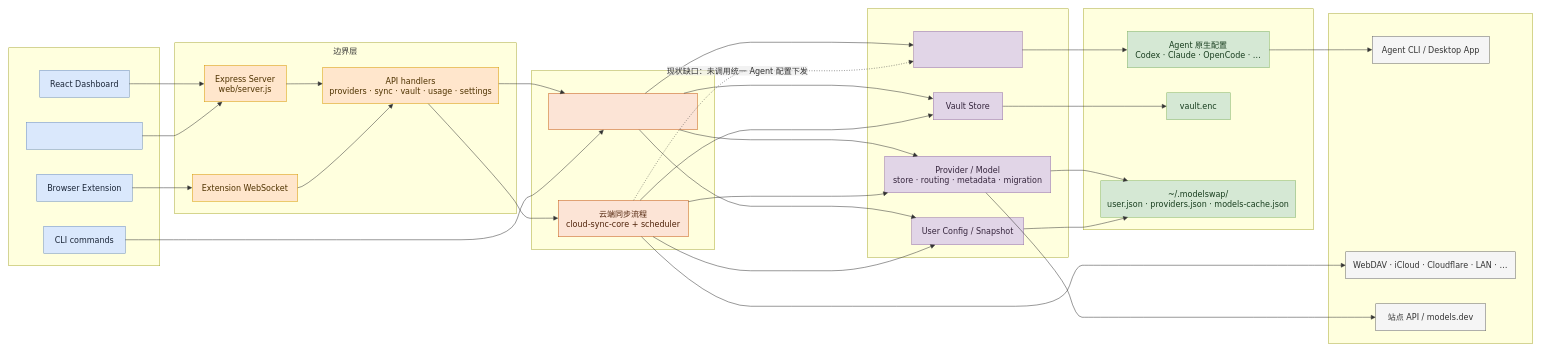
Some shapes in this 1542 by 352 pixel diagram are drawn without their labels. Each missing label, with the box of its shape:
Agent adapters registry + 10 adapters: (913, 31, 1022, 68)
Electron main / preload: (26, 122, 142, 149)
入口: (8, 47, 160, 266)
外部系统: (1328, 13, 1533, 343)
当前应用编排: (531, 70, 715, 249)
本机持久化: (1083, 8, 1313, 230)
站点、模型与 Agent 配置流程 providers.js + provider command: (548, 93, 697, 130)
领域能力: (867, 8, 1068, 257)
